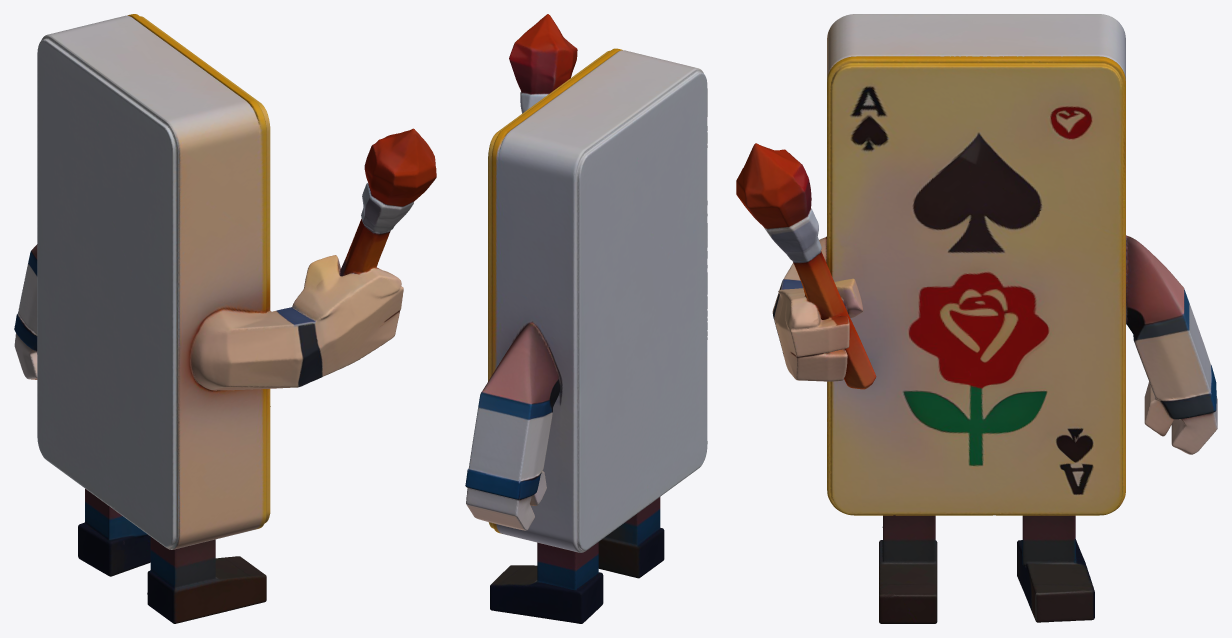
Rendered from card_painter.glb.
3 views of the same model, side by side, from view 1: azimuth 30°, elevation 25°; view 2: azimuth 150°, elevation 25°; view 3: azimuth 270°, elevation 25° (orthographic). The views are drawn at different scales.
Visible parts, largest first — view 1: tripo_node_8196956f-aa7b-447f-a470-d8cb79105342; view 2: tripo_node_8196956f-aa7b-447f-a470-d8cb79105342; view 3: tripo_node_8196956f-aa7b-447f-a470-d8cb79105342.
Part boxes in pixels (x1,y1,x2,y2): tripo_node_8196956f-aa7b-447f-a470-d8cb79105342: [14, 14, 436, 623]; tripo_node_8196956f-aa7b-447f-a470-d8cb79105342: [465, 14, 707, 623]; tripo_node_8196956f-aa7b-447f-a470-d8cb79105342: [736, 14, 1217, 623].
Size of the model in its own units: 0.4711 by 1 by 0.7895.
1 material, 1 textured.
